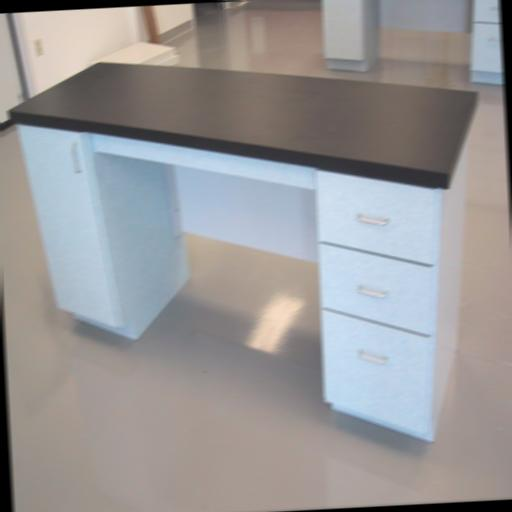desk: (5, 42, 496, 464)
